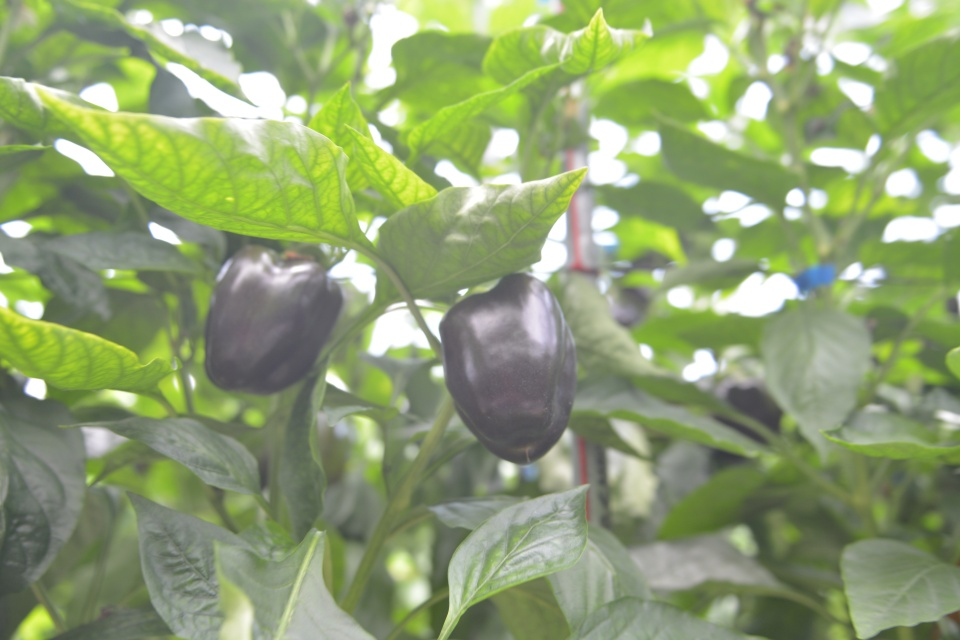fruit: (433, 269, 582, 468), (200, 237, 348, 399)
